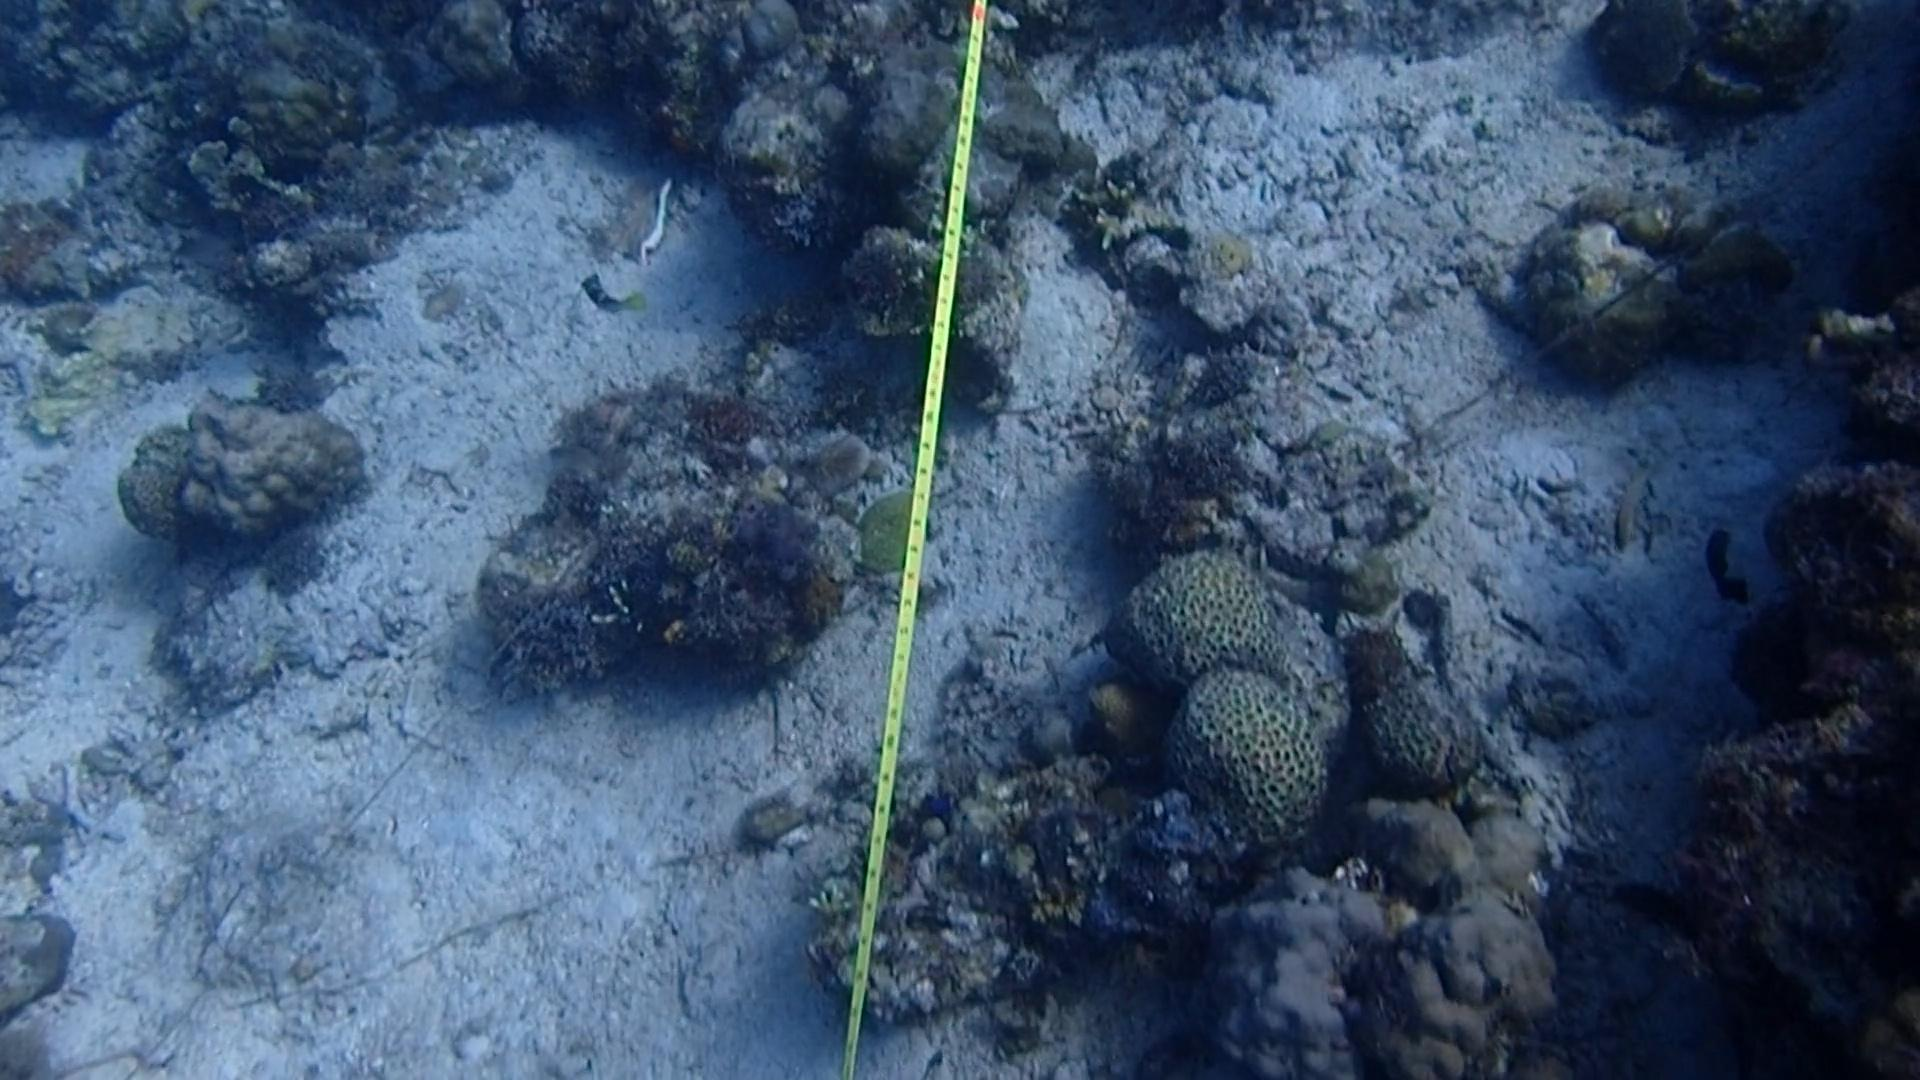Striped Fish: (568, 270, 650, 324)
